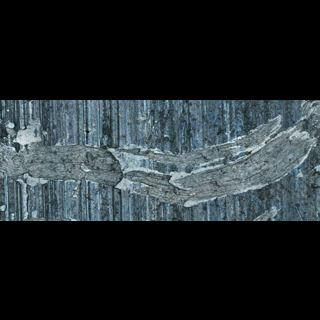d: (139, 137, 268, 209), (58, 139, 160, 201), (243, 103, 317, 181), (0, 111, 58, 194), (0, 200, 40, 220)
